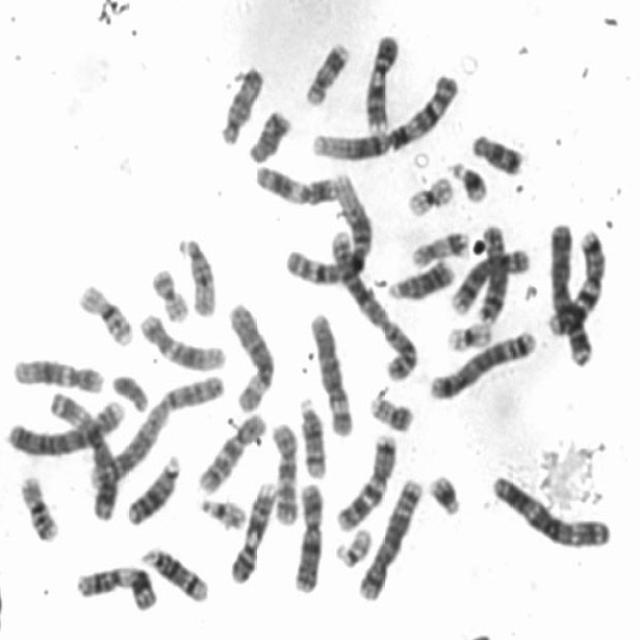A1: (306, 66, 460, 162), (281, 170, 376, 290)
A2: (85, 370, 229, 491), (326, 224, 419, 380)
A3: (487, 468, 614, 551), (45, 386, 118, 524)
B4: (0, 393, 128, 460), (544, 217, 596, 369)
B5: (352, 470, 426, 602), (425, 326, 539, 402)
C10: (193, 408, 270, 496), (266, 416, 301, 527)
C11: (71, 560, 159, 614), (251, 158, 342, 206)
C12: (135, 308, 230, 372), (7, 352, 107, 395)
C6: (305, 306, 358, 438), (224, 295, 278, 413)
C7: (544, 224, 610, 338), (331, 428, 400, 533)
C8: (446, 243, 534, 317), (474, 219, 510, 324)
C9: (227, 475, 281, 585), (360, 28, 402, 134)
D13: (121, 448, 183, 527), (383, 255, 456, 302)
D14: (138, 542, 214, 604), (295, 392, 330, 481)
D15: (217, 61, 264, 148), (174, 233, 217, 318)
E16: (73, 279, 136, 348), (15, 468, 62, 543)
E17: (300, 36, 352, 108), (405, 223, 472, 269)
E18: (243, 103, 294, 166), (467, 128, 526, 176)
F19: (403, 170, 456, 218), (442, 315, 496, 353)
F20: (147, 263, 191, 323), (364, 389, 415, 435)
G21: (444, 155, 490, 204), (423, 467, 464, 518)
G22: (332, 522, 375, 570), (196, 492, 248, 531)
X: (288, 476, 327, 593)
Y: (108, 367, 152, 413)
